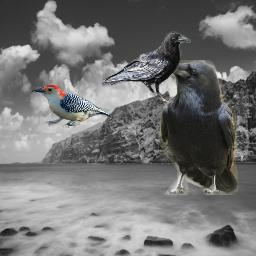Crow: (159, 60, 238, 195), (100, 31, 191, 103)
Woodpecker: (32, 85, 111, 128)
